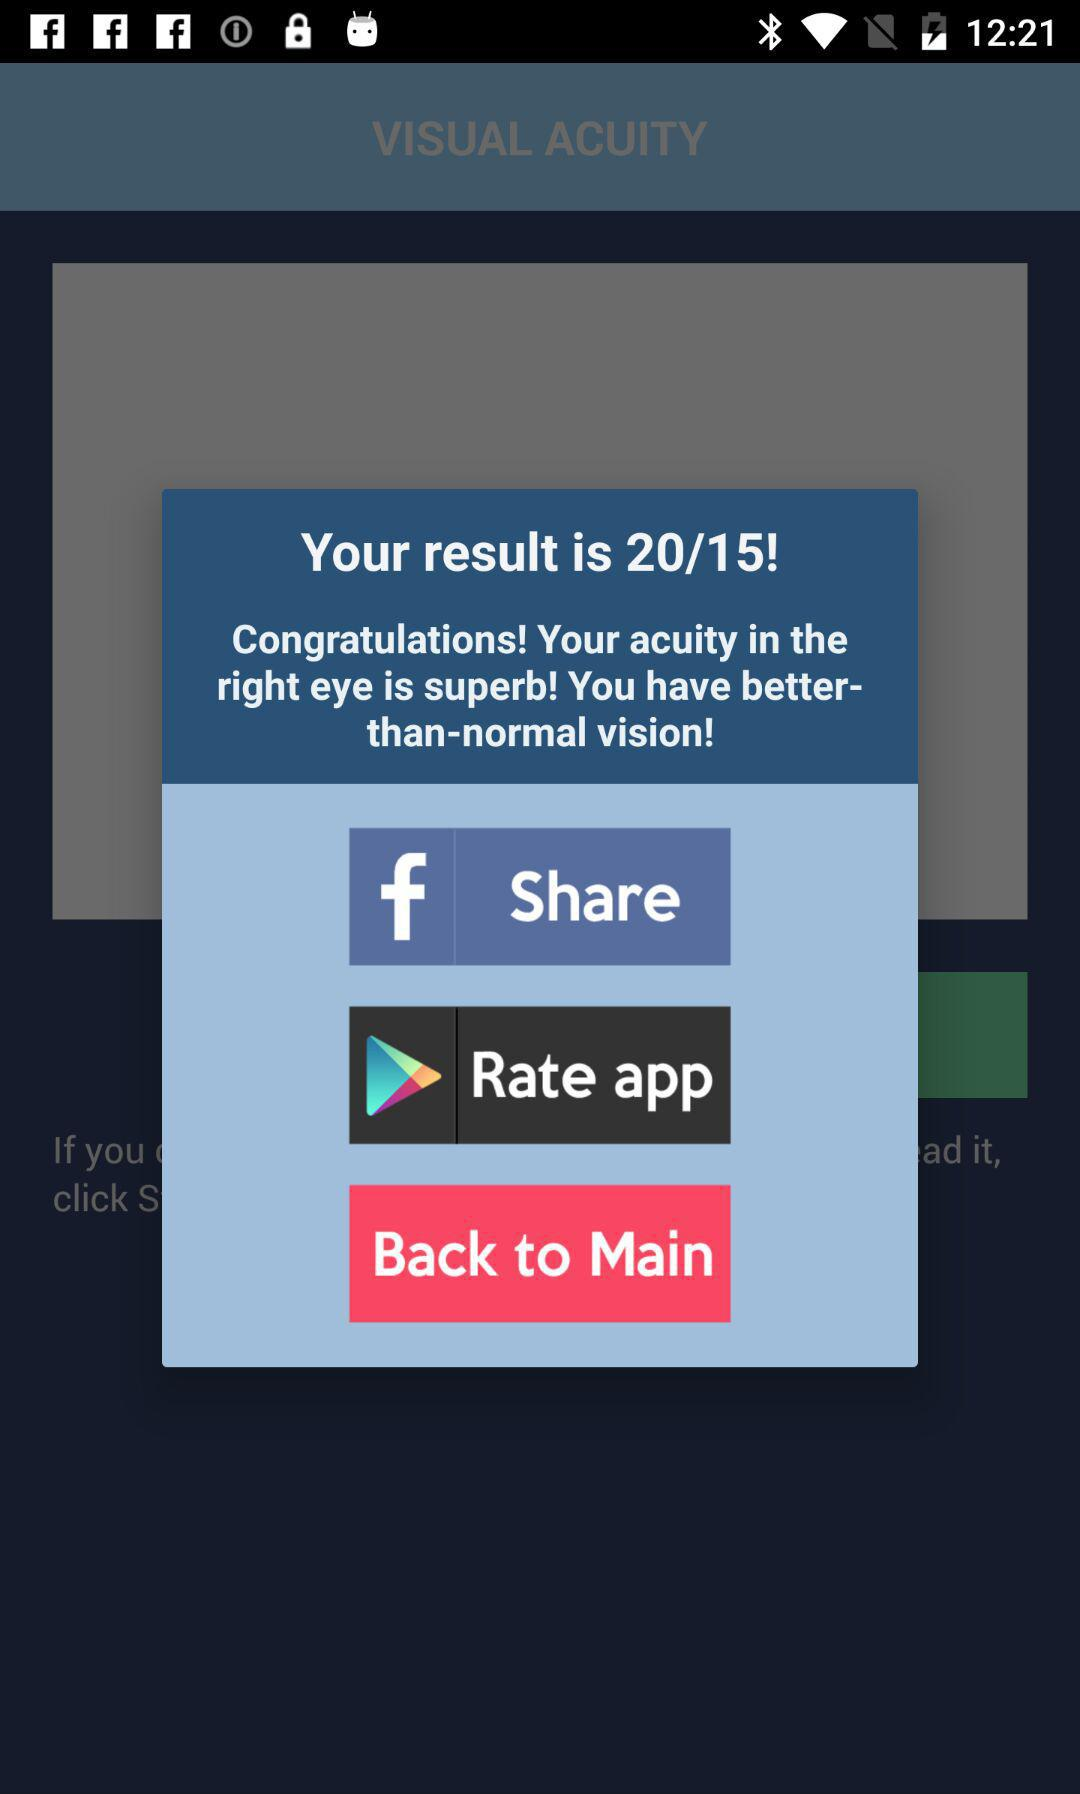Modal: (161, 488, 919, 1369)
Text: (219, 623, 863, 748), (302, 532, 779, 573), (370, 120, 708, 158)
TextButton: (348, 1006, 732, 1146), (350, 828, 732, 967), (348, 1185, 733, 1324)
UpperTaskBar: (1, 1, 1080, 64)
